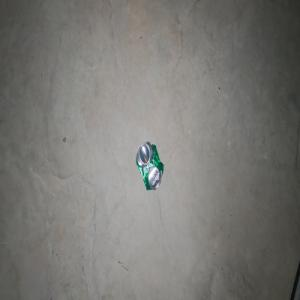SodaCan: (135, 140, 163, 190)
